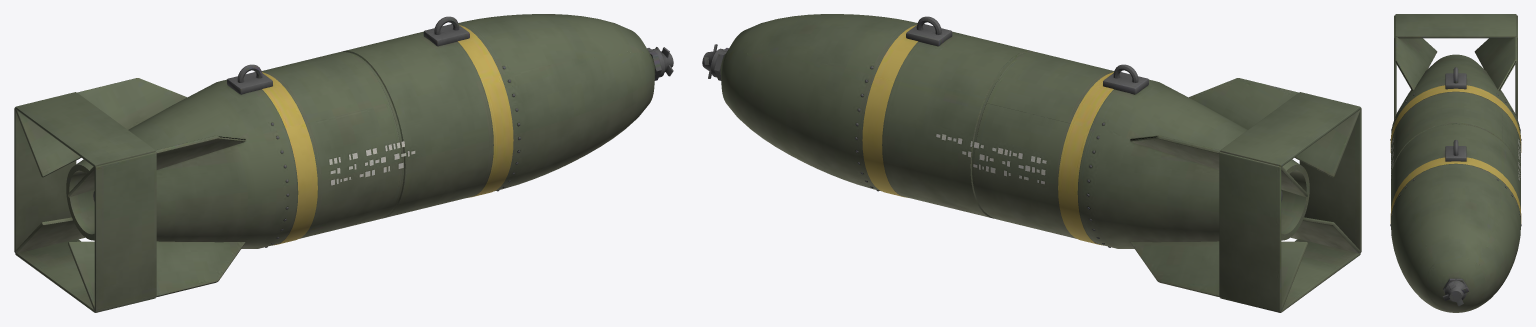
The model's file is bombs_3.glb.
The picture shows the model from 3 angles, left to right: view 1: azimuth 30°, elevation 25°; view 2: azimuth 150°, elevation 25°; view 3: azimuth 270°, elevation 25°; orthographic projection. The views are drawn at different scales.
Visible parts, largest first — view 1: bombs_3; view 2: bombs_3; view 3: bombs_3.
Boxes of the visible parts, x1,y1,x2,y2 form: bombs_3: (14,14,673,312); bombs_3: (702,14,1361,312); bombs_3: (1390,14,1521,312).
Size of the model in its own units: 0.66 by 0.1809 by 0.1616.
5 materials, 5 textured.
